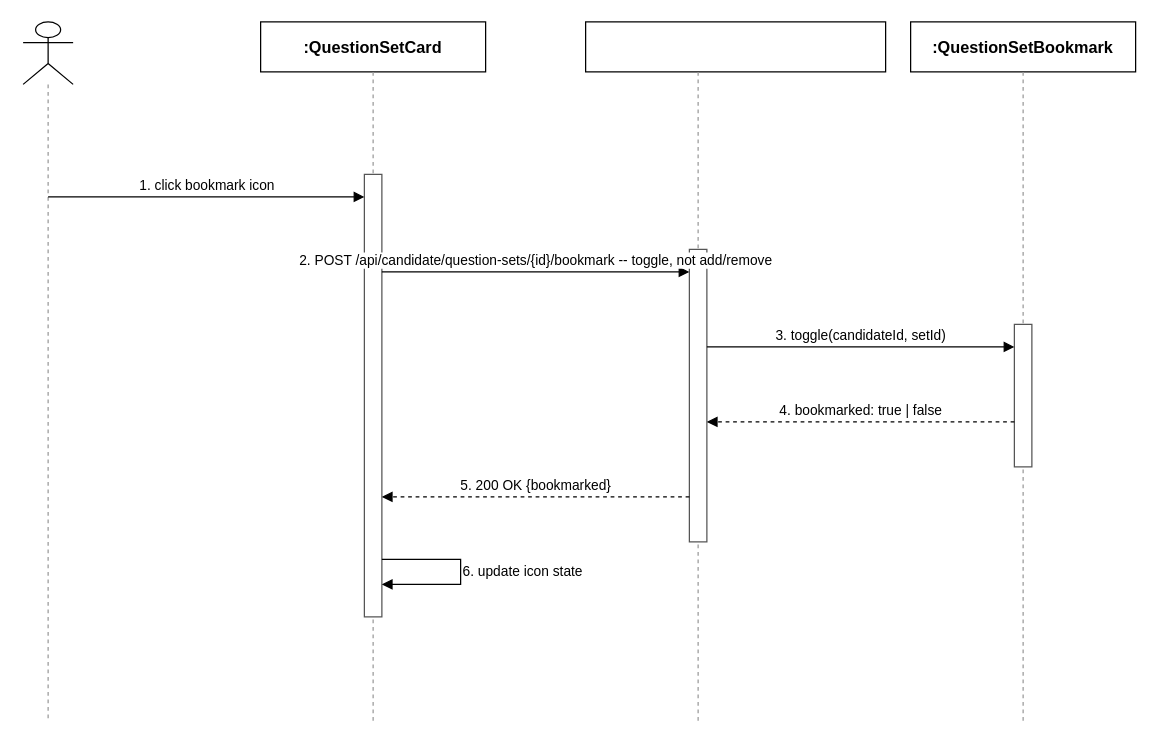
This 1158x745 diagram has some shape labels left out. The shapes that lost their labels are listed below. From the top down, each one's centre as x and y in pixels, then its label:
point 47,52: Job Seeker
point 735,46: :CandidateQuestionSetsController
